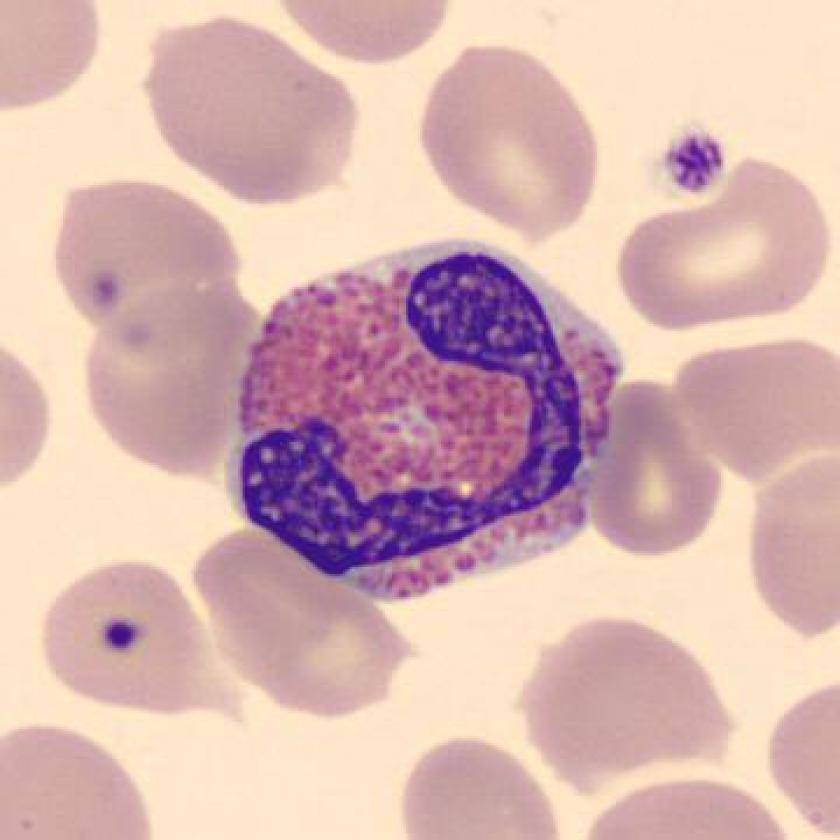eosinophil: (218, 228, 636, 610)
